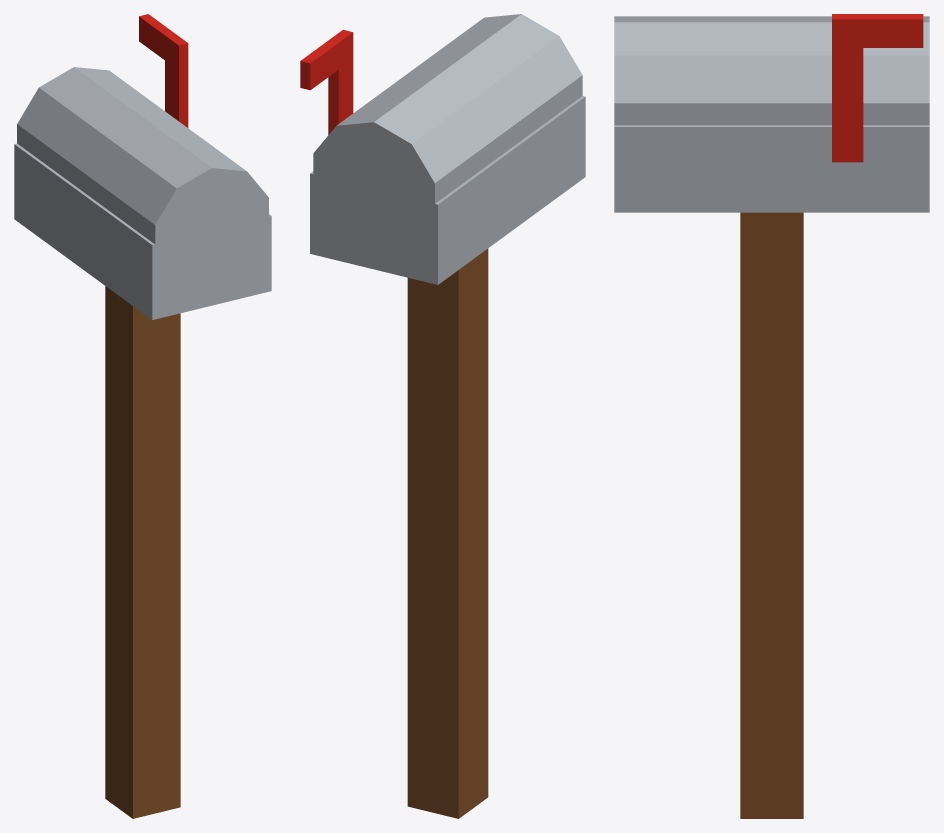
Rendered from mailbox.glb.
The picture shows the model from 3 angles, left to right: view 1: azimuth 30°, elevation 25°; view 2: azimuth 150°, elevation 25°; view 3: azimuth 270°, elevation 25°; orthographic projection. The views are drawn at different scales.
Visible parts, largest first — view 1: mailbox; view 2: mailbox; view 3: mailbox.
Part boxes in pixels (bbox=[...]): mailbox: bbox=[14, 14, 271, 818]; mailbox: bbox=[300, 14, 585, 818]; mailbox: bbox=[614, 14, 929, 818].
Size of the model in its own units: 0.275 by 1.45 by 0.5.
